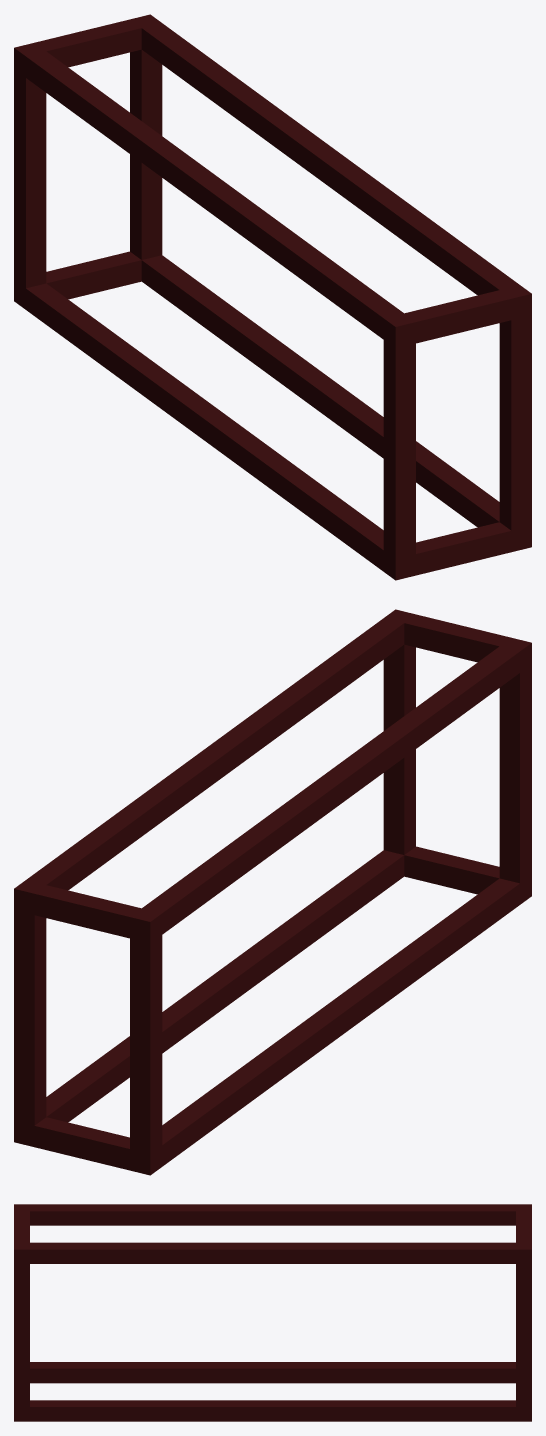
File: brick_outline_prototyp(1).obj
3 views of the same model, one above another, from view 1: azimuth 30°, elevation 25°; view 2: azimuth 150°, elevation 25°; view 3: azimuth 270°, elevation 25° (orthographic). The views are drawn at different scales.
Visible parts, largest first — view 1: Cube.098; view 2: Cube.098; view 3: Cube.098.
Part boxes in pixels (x1=…): Cube.098: x1=14, y1=14, x2=531, y2=580; Cube.098: x1=14, y1=609, x2=531, y2=1175; Cube.098: x1=14, y1=1204, x2=531, y2=1421.
Size of the model in its own units: 0.4128 by 0.733 by 2.
